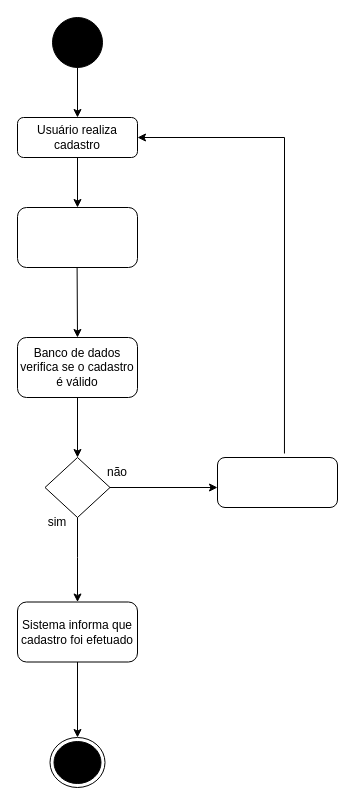
The diagram is 355 pixels wide and 805 high, and some of its shapes have lost their labels. Here are the shapes that lost their labels. From the top down, the centre of each, then its label:
At point (77, 237): "Sistema envia dados para o banco de dados".
At point (277, 482): "Sistema informa erro no cadastro".
